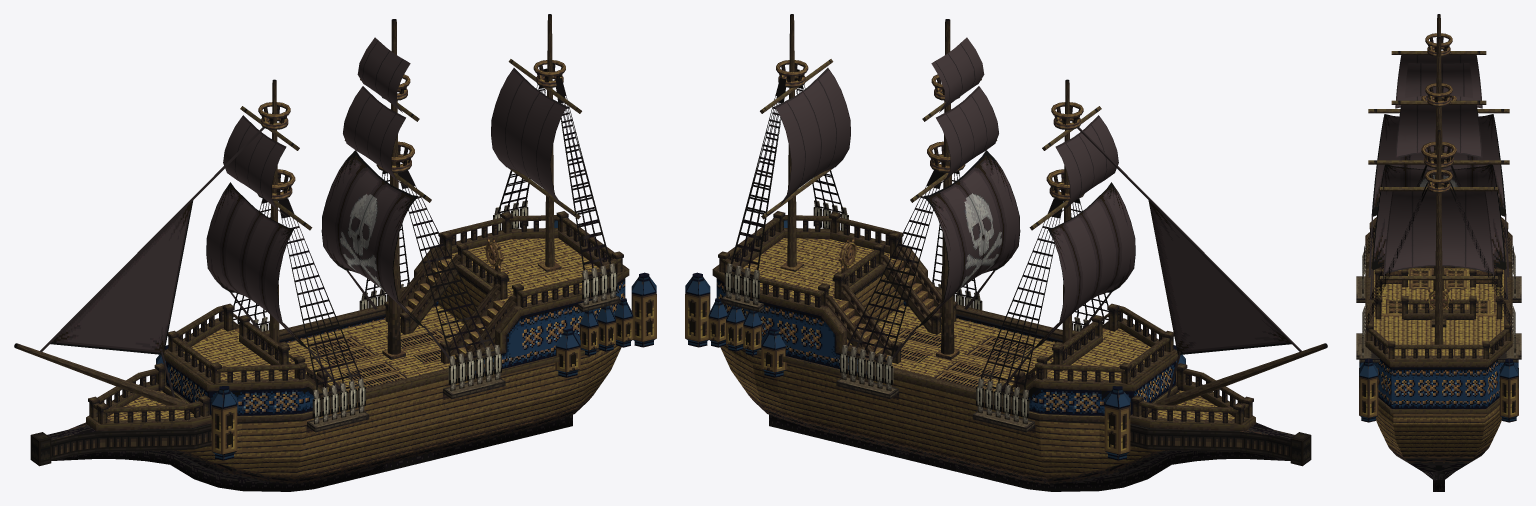
The model's file is ObjMD_Ship_Pirate_A.FBX.
3 renders of one model, left to right at view 1: azimuth 30°, elevation 25°; view 2: azimuth 150°, elevation 25°; view 3: azimuth 270°, elevation 25°, orthographic. The views are drawn at different scales.
Parts seen in each view (by area): view 1: ObjMD_Ship_Pirate_A; view 2: ObjMD_Ship_Pirate_A; view 3: ObjMD_Ship_Pirate_A.
Boxes of the visible parts, bbox=[...] form: ObjMD_Ship_Pirate_A: bbox=[14, 14, 656, 491]; ObjMD_Ship_Pirate_A: bbox=[685, 14, 1327, 491]; ObjMD_Ship_Pirate_A: bbox=[1356, 14, 1521, 491].
Bounding box in the file's own units: 2510 × 1781 × 700.
